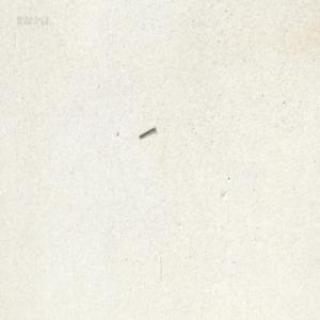Bolttrack_idkeyframe: (137, 124, 154, 138)
